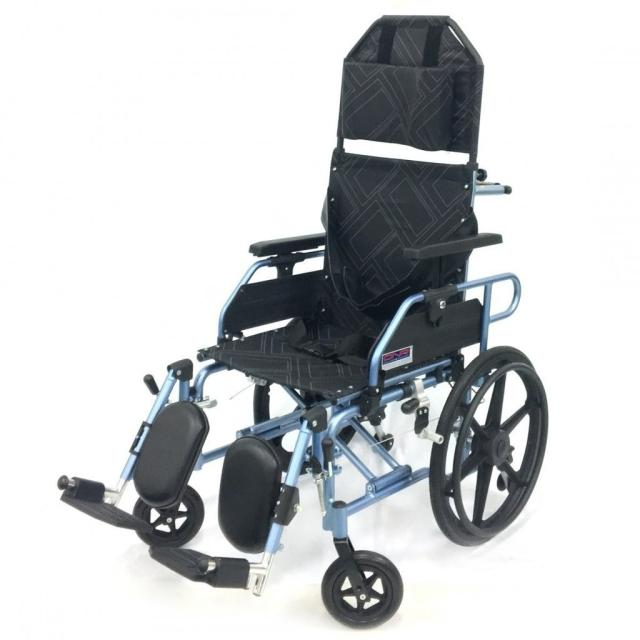wheelchair: (51, 2, 592, 640)
